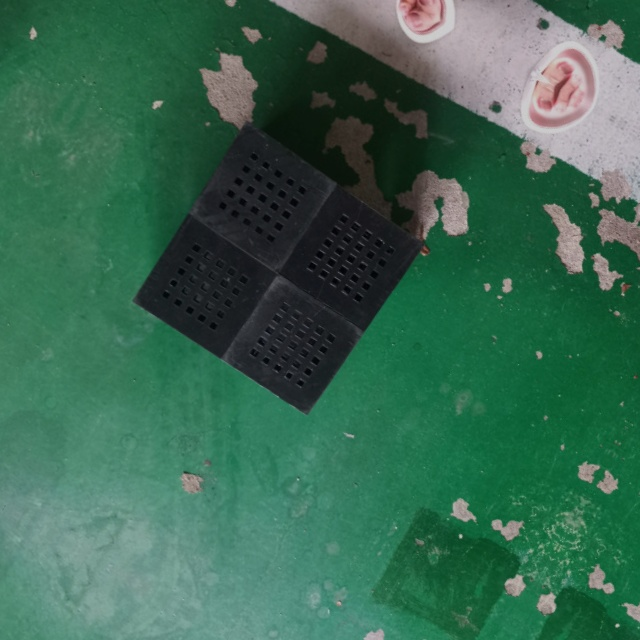pallet: (119, 119, 435, 421)
